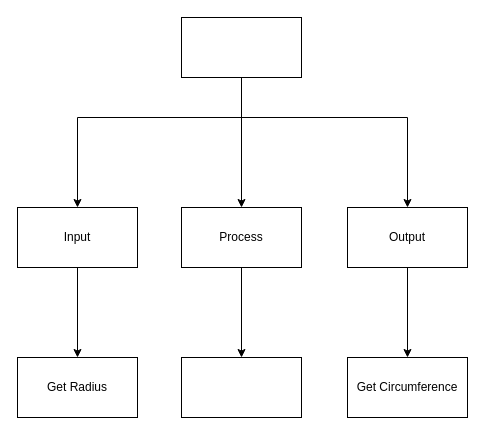
Some shapes in this 485 by 435 pixel diagram are drawn without their labels. Each missing label, with the centre of its shape:
"Circumference" belongs at [241,47].
"Circumference = tau * radius" belongs at [241,387].
